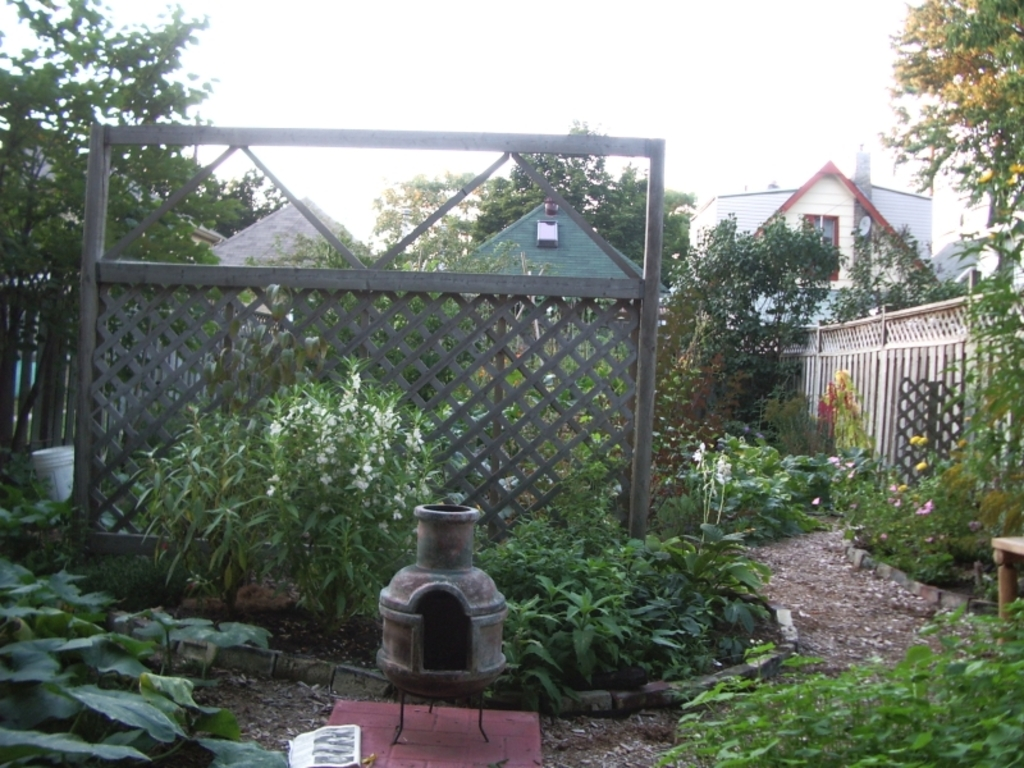Tree: (248, 121, 963, 431), (0, 0, 290, 437), (877, 0, 1024, 536)
